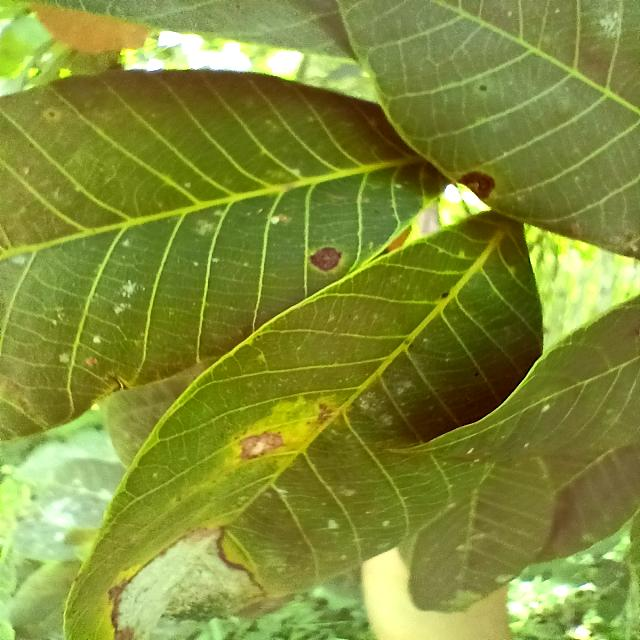Colletotrichum: (457, 171, 494, 199), (309, 247, 341, 272)
Leaf-Blight: (116, 525, 261, 640), (242, 432, 282, 459)
